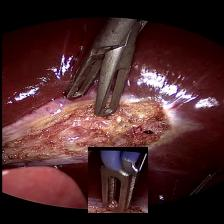Bipolar: (86, 147, 146, 213)
Grasper: (61, 18, 147, 116)
